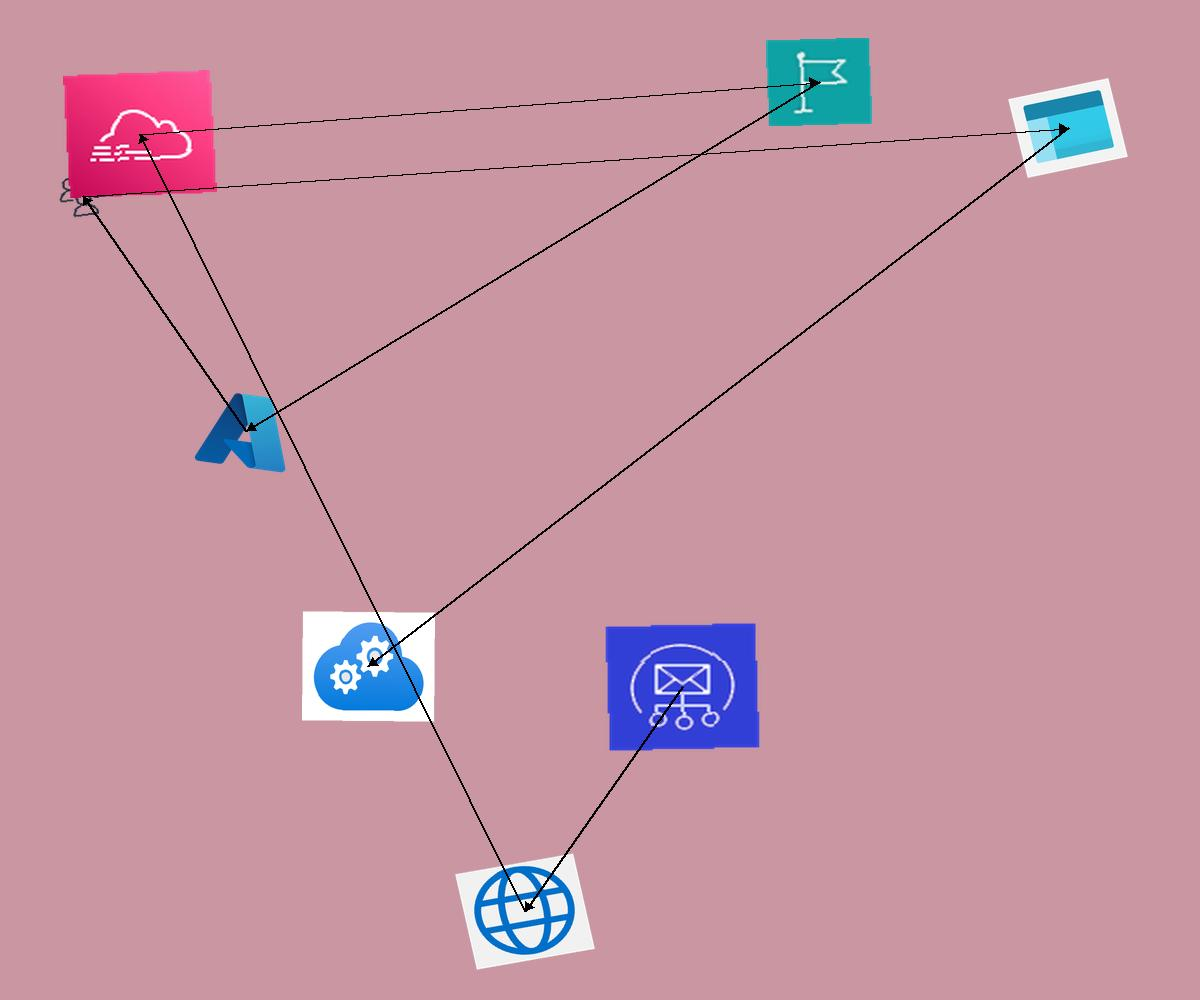AWS-CloudTrail: (63, 70, 217, 198)
AWS-Region: (765, 37, 873, 127)
AWS-Res_Users: (53, 171, 113, 221)
AWS-Simple-Email-Service: (604, 622, 761, 752)
Azure_cloud_services: (302, 611, 435, 722)
Azure_http: (455, 853, 595, 970)
Azure_management-portal: (1008, 78, 1128, 178)
Azure_services: (189, 383, 304, 479)
